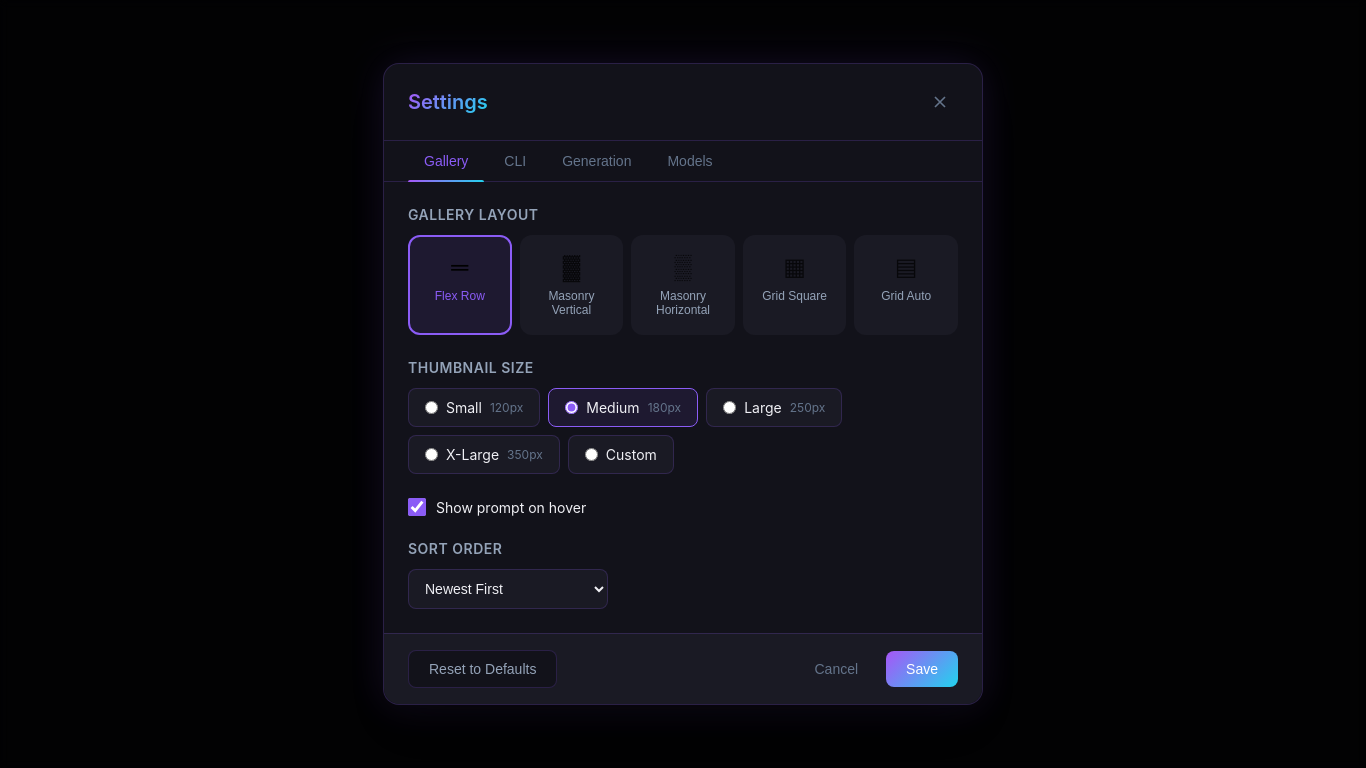
Scenario: Settings Dialog › Tab Navigation › switches to Models tab when clicked
The width and height of the screenshot is (1366, 768).
Click the tab "Models" at point(690, 161), box [651,141,728,181]
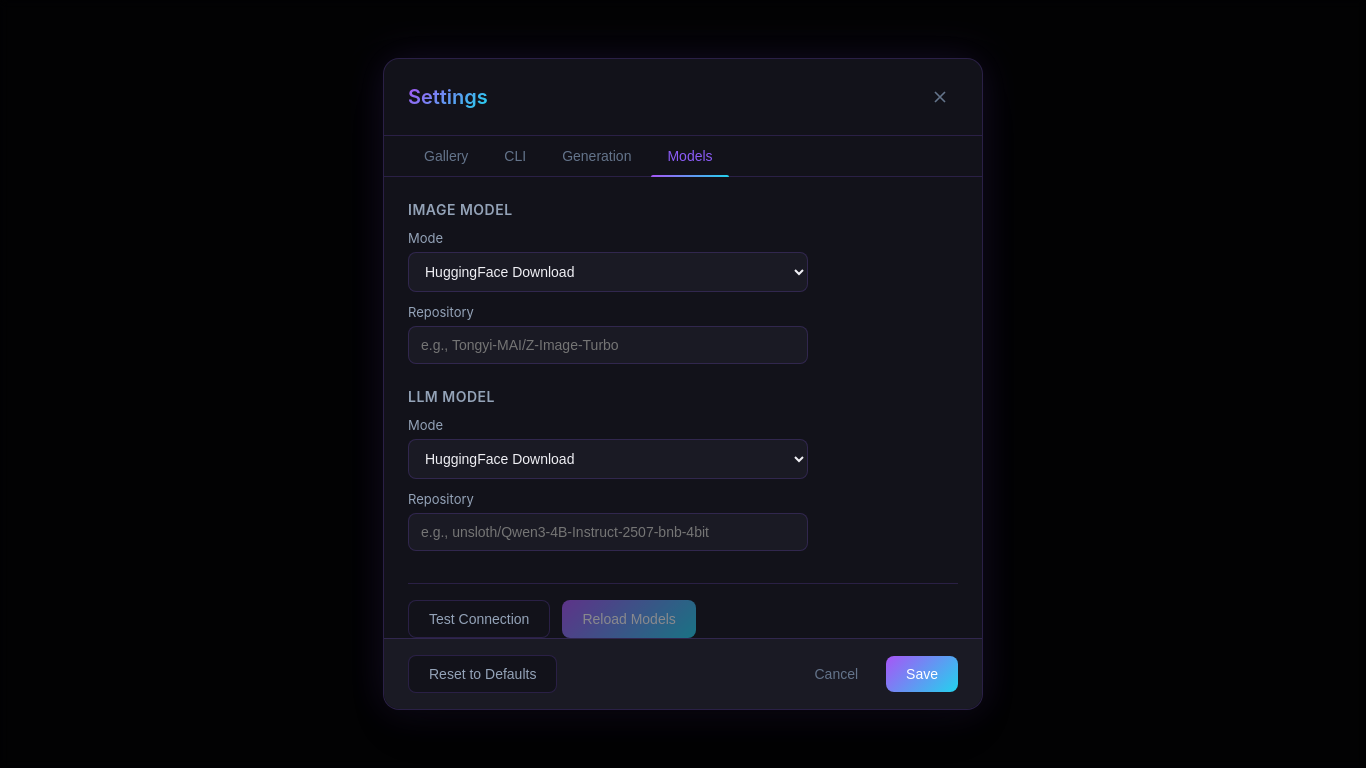
Check: the heading "Image Model" is shown, box [408,201,513,218]
